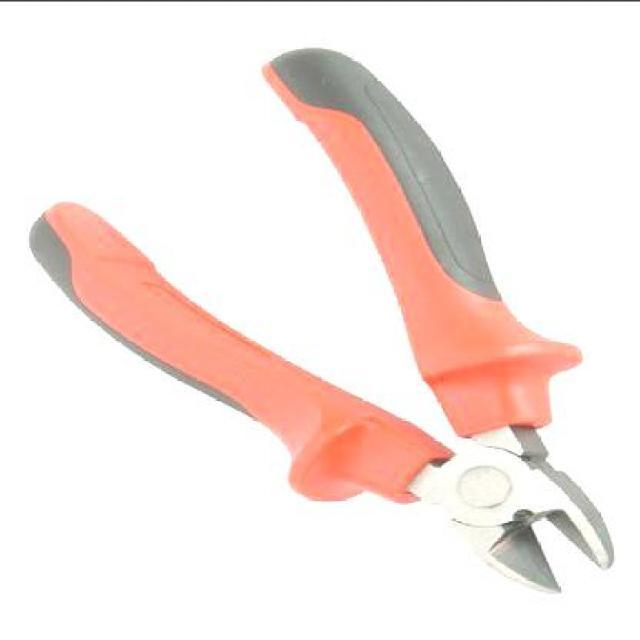pliers: (31, 49, 620, 597)
